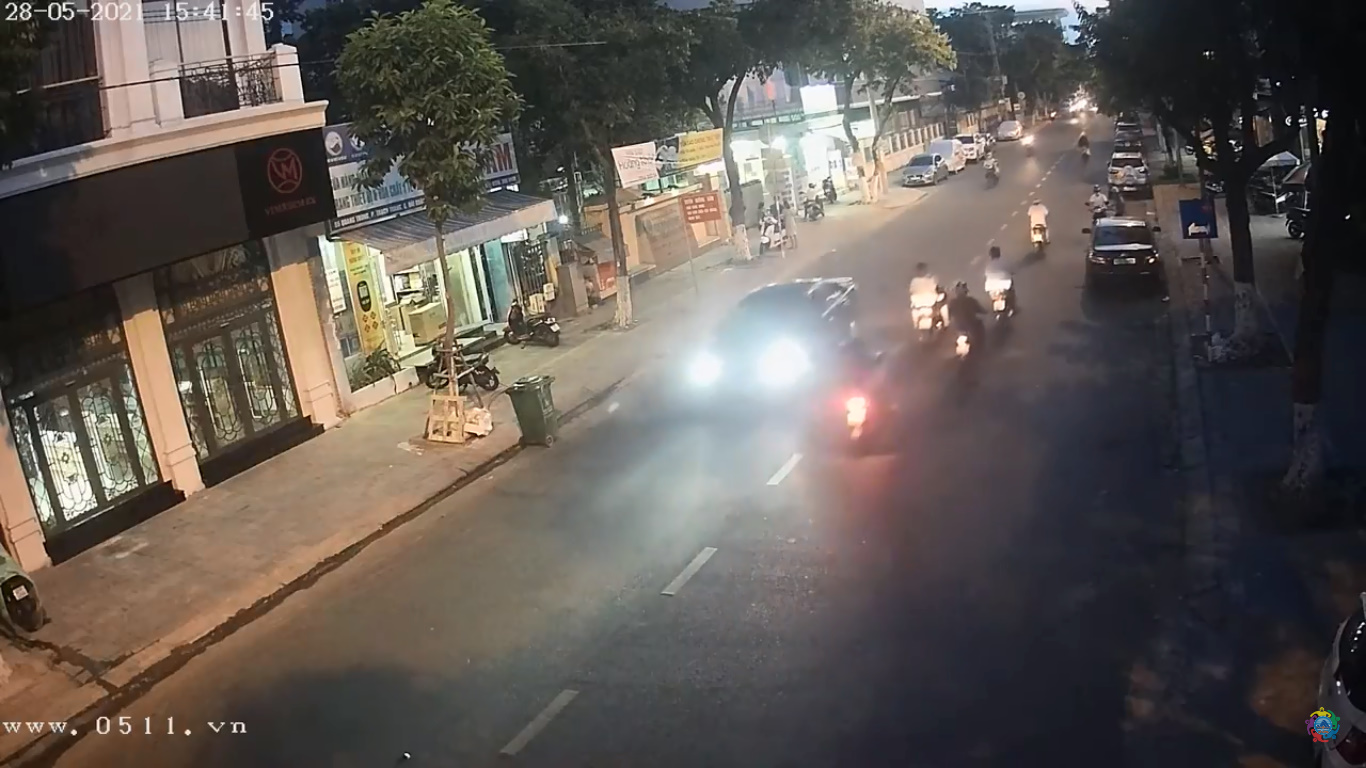car: (687, 275, 867, 417)
